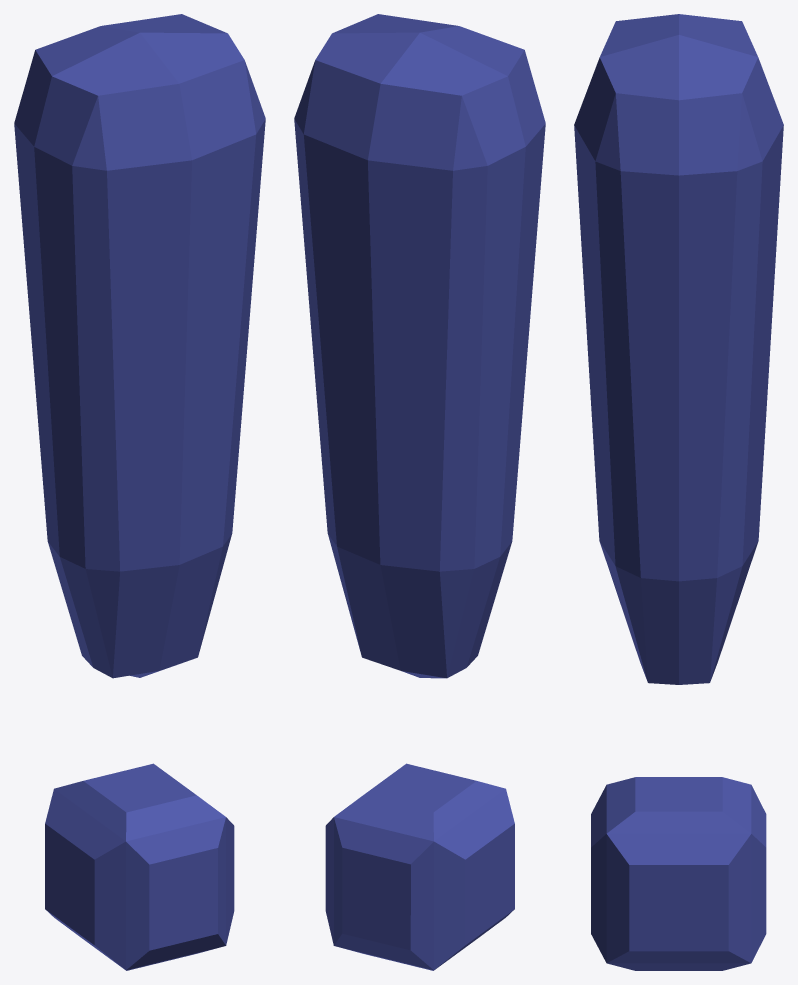
The model's file is exclamation_mark.fbx.
3 renders of one model, left to right at view 1: azimuth 30°, elevation 25°; view 2: azimuth 150°, elevation 25°; view 3: azimuth 270°, elevation 25°, orthographic.
Parts seen in each view (by area): view 1: exclamation_mark; view 2: exclamation_mark; view 3: exclamation_mark.
Boxes of the visible parts, left/top/right/bottom form: exclamation_mark: left=14, top=14, right=265, bottom=970; exclamation_mark: left=294, top=14, right=545, bottom=970; exclamation_mark: left=574, top=14, right=783, bottom=970.
Bounding box in the file's own units: 9.95 × 41.08 × 8.5.
